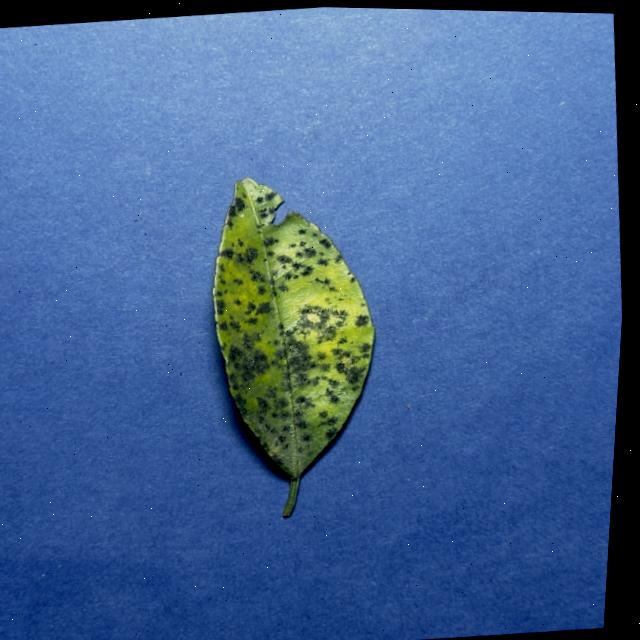sooty_mold: (212, 177, 372, 514)
